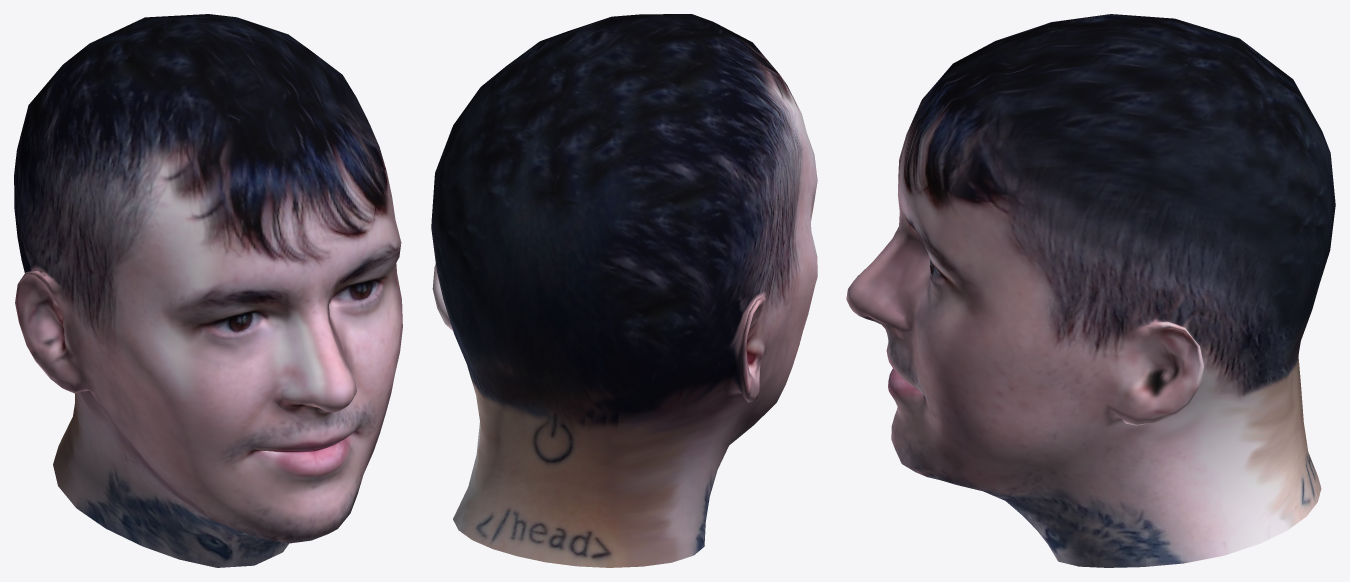
The model's file is head.obj.
The picture shows the model from 3 angles, left to right: view 1: azimuth 30°, elevation 25°; view 2: azimuth 150°, elevation 25°; view 3: azimuth 270°, elevation 25°; orthographic projection.
Visible parts, largest first — view 1: head.001; view 2: head.001; view 3: head.001.
Part boxes in pixels (x1,y1,x2,y2): head.001: (14, 14, 402, 567); head.001: (431, 14, 817, 567); head.001: (846, 14, 1335, 567).
Bounding box in the file's own units: 12.48 × 19.57 × 16.95.
3 materials, 1 textured.
